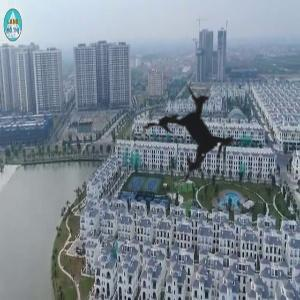drone: (114, 57, 274, 217)
